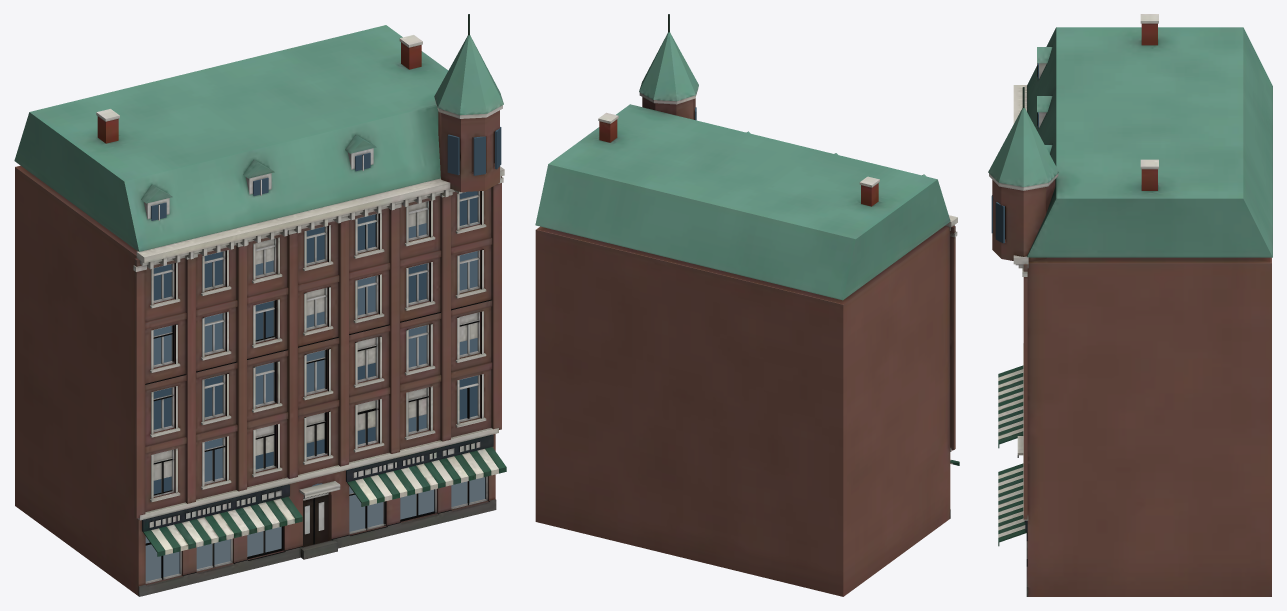
Rendered from getkong-hh4.glb.
3 renders of one model, left to right at view 1: azimuth 30°, elevation 25°; view 2: azimuth 150°, elevation 25°; view 3: azimuth 270°, elevation 25°, orthographic. The views are drawn at different scales.
Parts seen in each view (by area): view 1: Haus; view 2: Haus; view 3: Haus.
Boxes of the visible parts, x1,y1,x2,y2 form: Haus: (14, 14, 506, 596); Haus: (535, 14, 959, 596); Haus: (988, 14, 1272, 596).
Bounding box in the file's own units: 20.55 × 26.9 × 14.
Materials: 5 (2 with a texture image).
